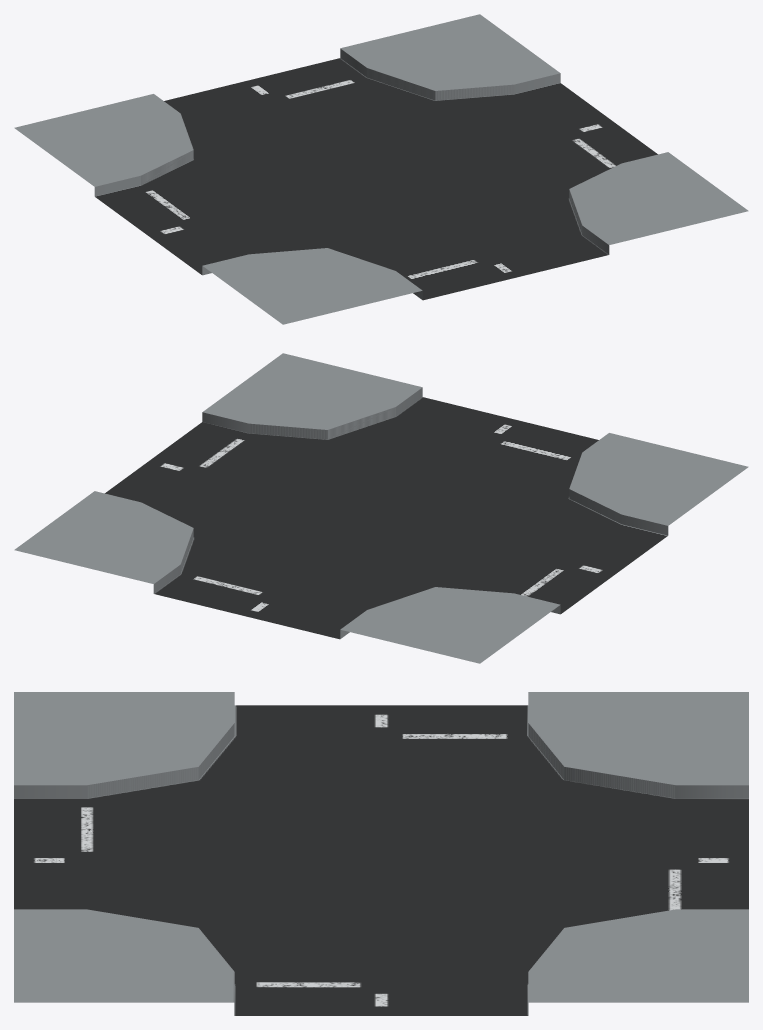
File: Road_X-Section.fbx
3 views of the same model, one above another, from view 1: azimuth 30°, elevation 25°; view 2: azimuth 150°, elevation 25°; view 3: azimuth 270°, elevation 25° (orthographic). The views are drawn at different scales.
Visible parts, largest first — view 1: Road_X; view 2: Road_X; view 3: Road_X.
Part boxes in pixels (x1,y1,x2,y2): Road_X: (14,14,748,324); Road_X: (14,353,748,663); Road_X: (14,692,748,1015).
Size of the model in its own units: 10 by 0.2 by 10.
